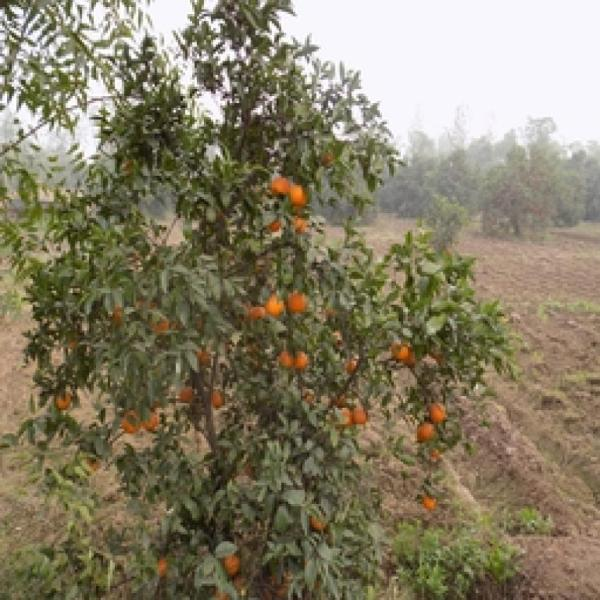Sana: (240, 298, 270, 331), (263, 288, 287, 327), (286, 289, 312, 322), (286, 182, 312, 213), (267, 170, 292, 201), (219, 550, 246, 578), (259, 211, 286, 238), (386, 338, 411, 367), (119, 406, 142, 437), (149, 312, 174, 339), (53, 389, 78, 414), (177, 384, 200, 410), (142, 408, 163, 436), (428, 400, 450, 426), (314, 147, 342, 167), (334, 403, 352, 434), (274, 348, 295, 373), (288, 214, 312, 235), (352, 404, 372, 429), (196, 345, 215, 371), (418, 496, 442, 516), (415, 422, 438, 442), (292, 347, 310, 372), (208, 387, 225, 410)
